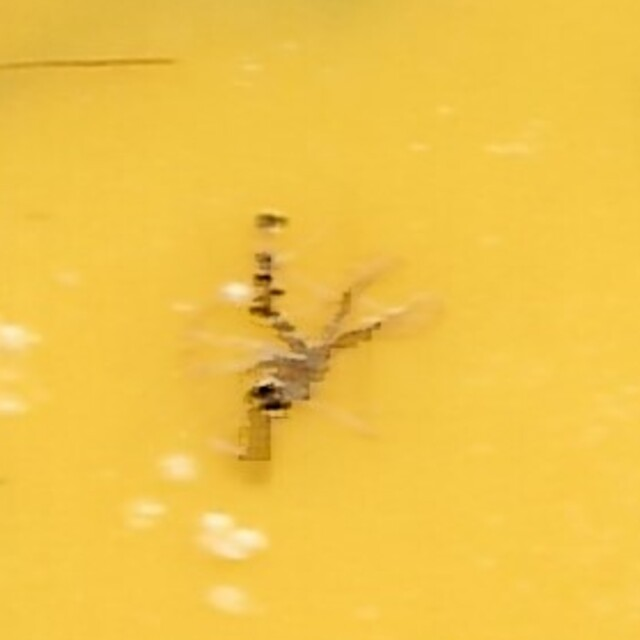Nematocera: (229, 201, 411, 439)
